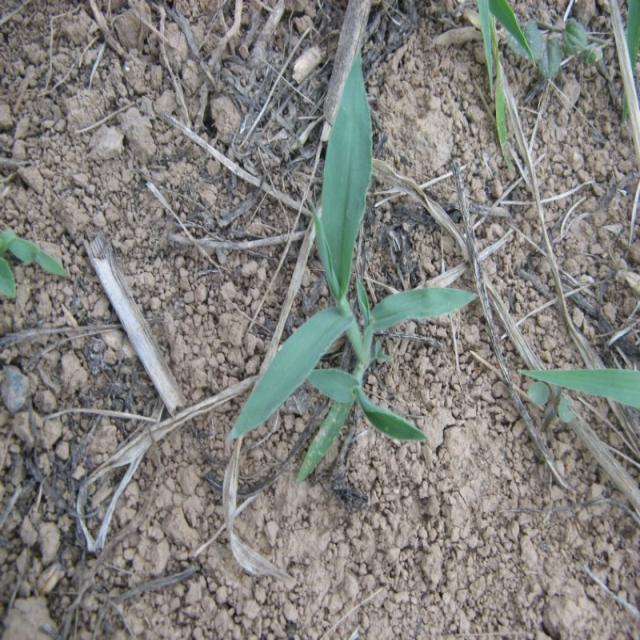bg: (230, 42, 476, 477)
